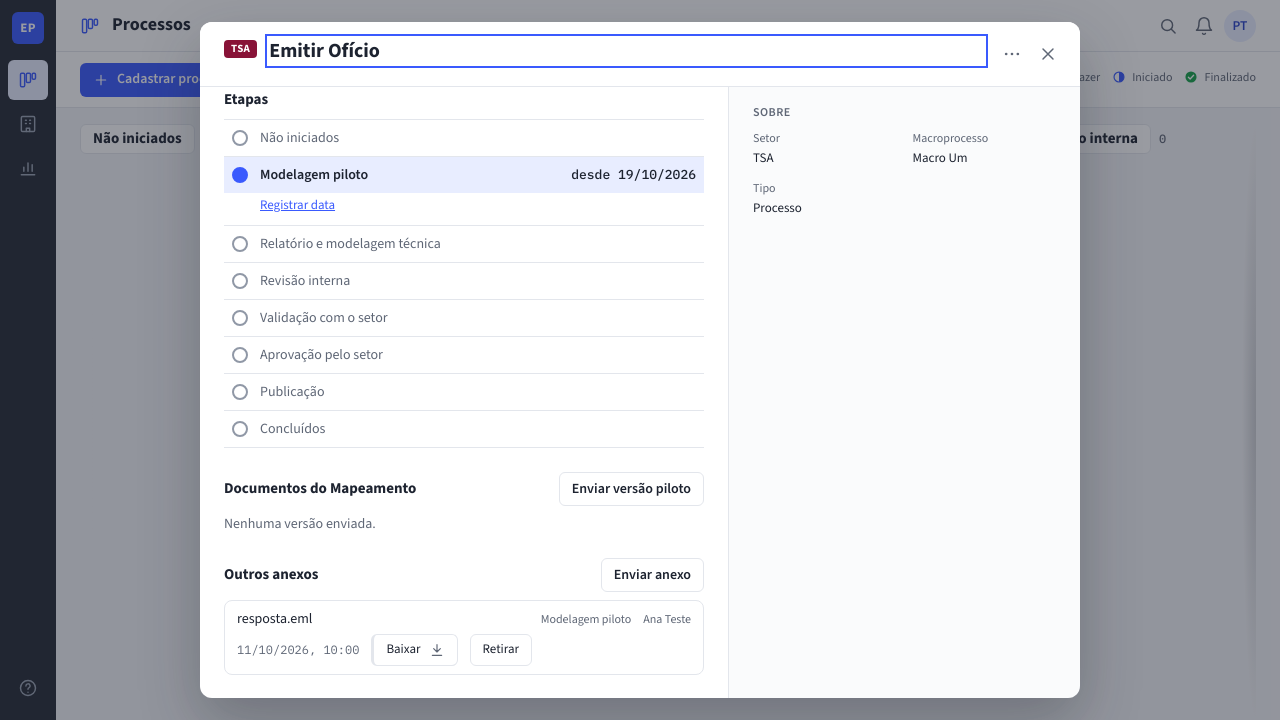
Test case: anexo já retirado em outra aba: a frase aparece e a linha some da lista
(page scrolled)
Click the button with aria-label "Retirar resposta.eml".
click(501, 650)  # box [470, 634, 532, 666]
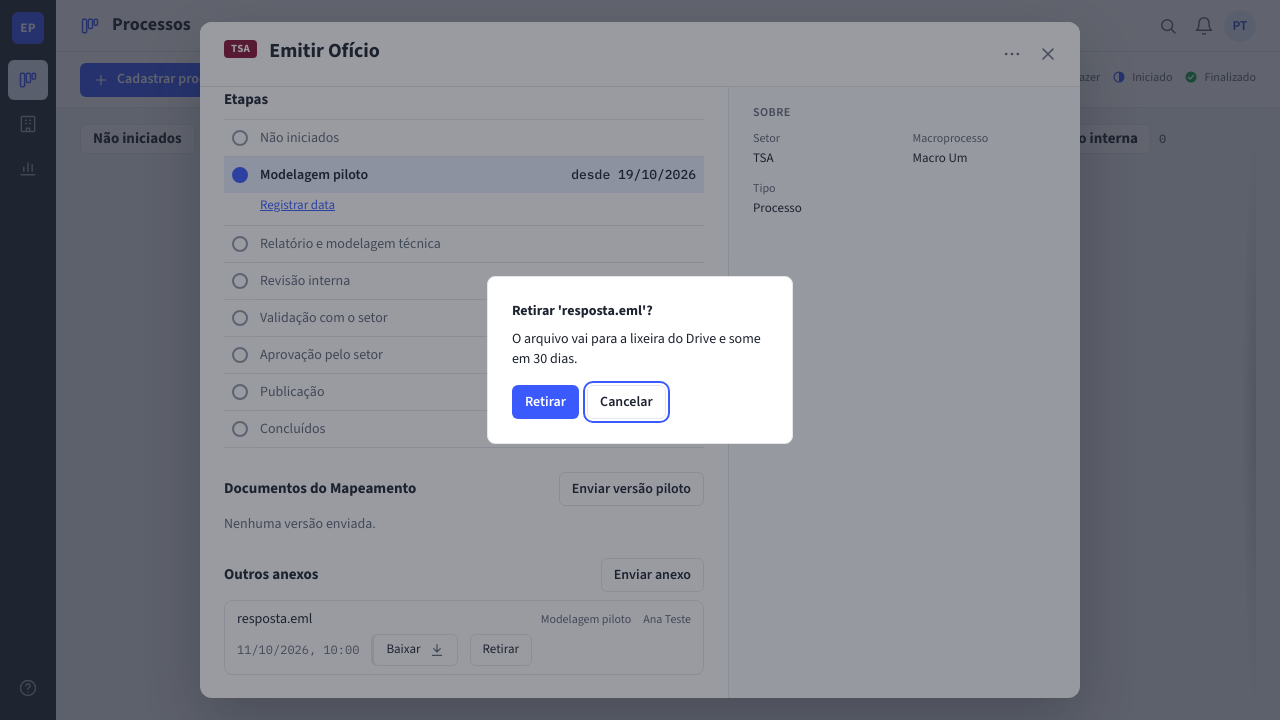
Click the button "Retirar".
click(545, 402)  # box [512, 385, 579, 419]
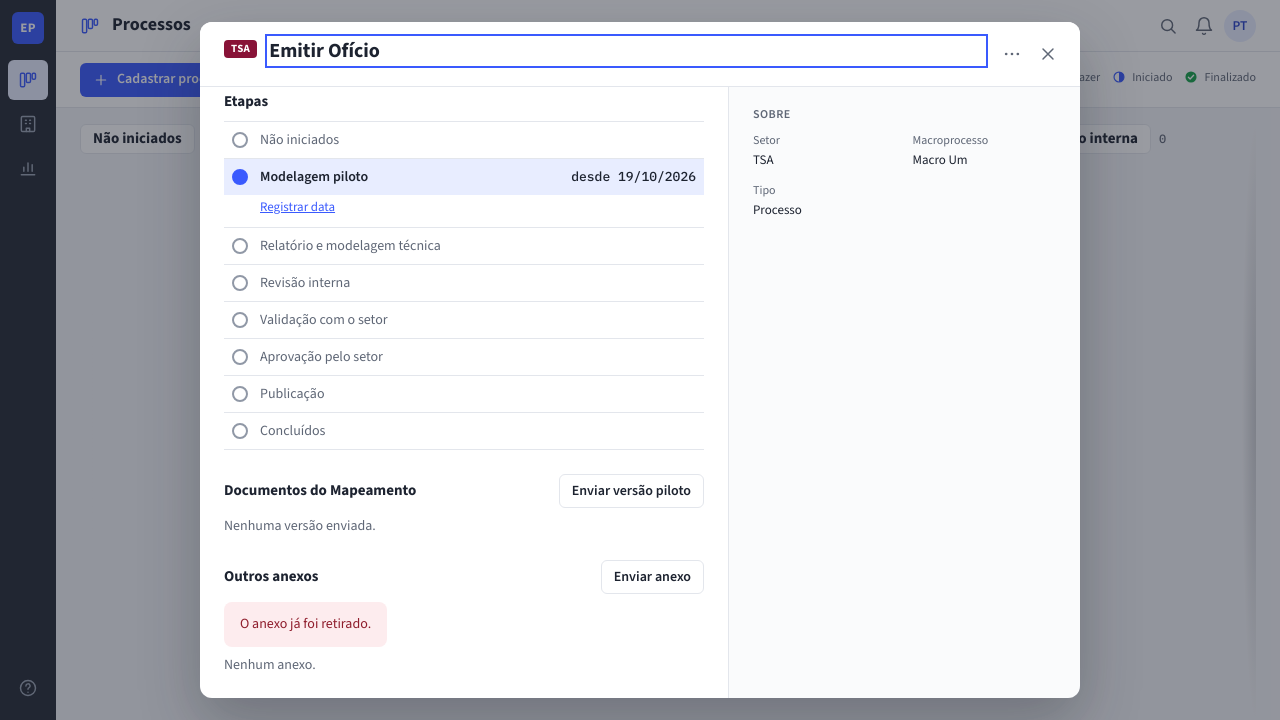
Now the message reads "O anexo já foi retirado.", box [240, 614, 371, 634]
Now the heading "resposta.eml" is gone
